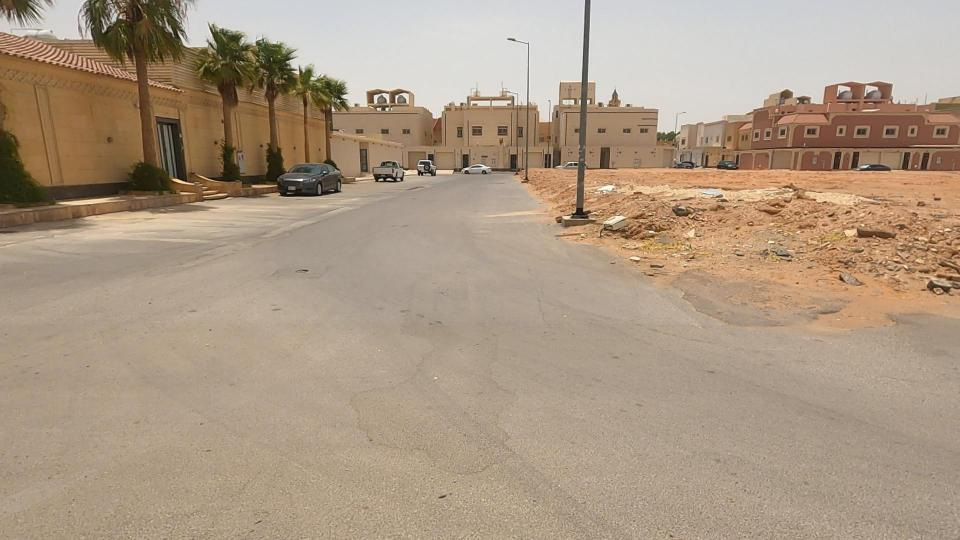GARBAGE: (791, 193, 960, 286), (640, 203, 723, 288), (563, 187, 652, 262)
